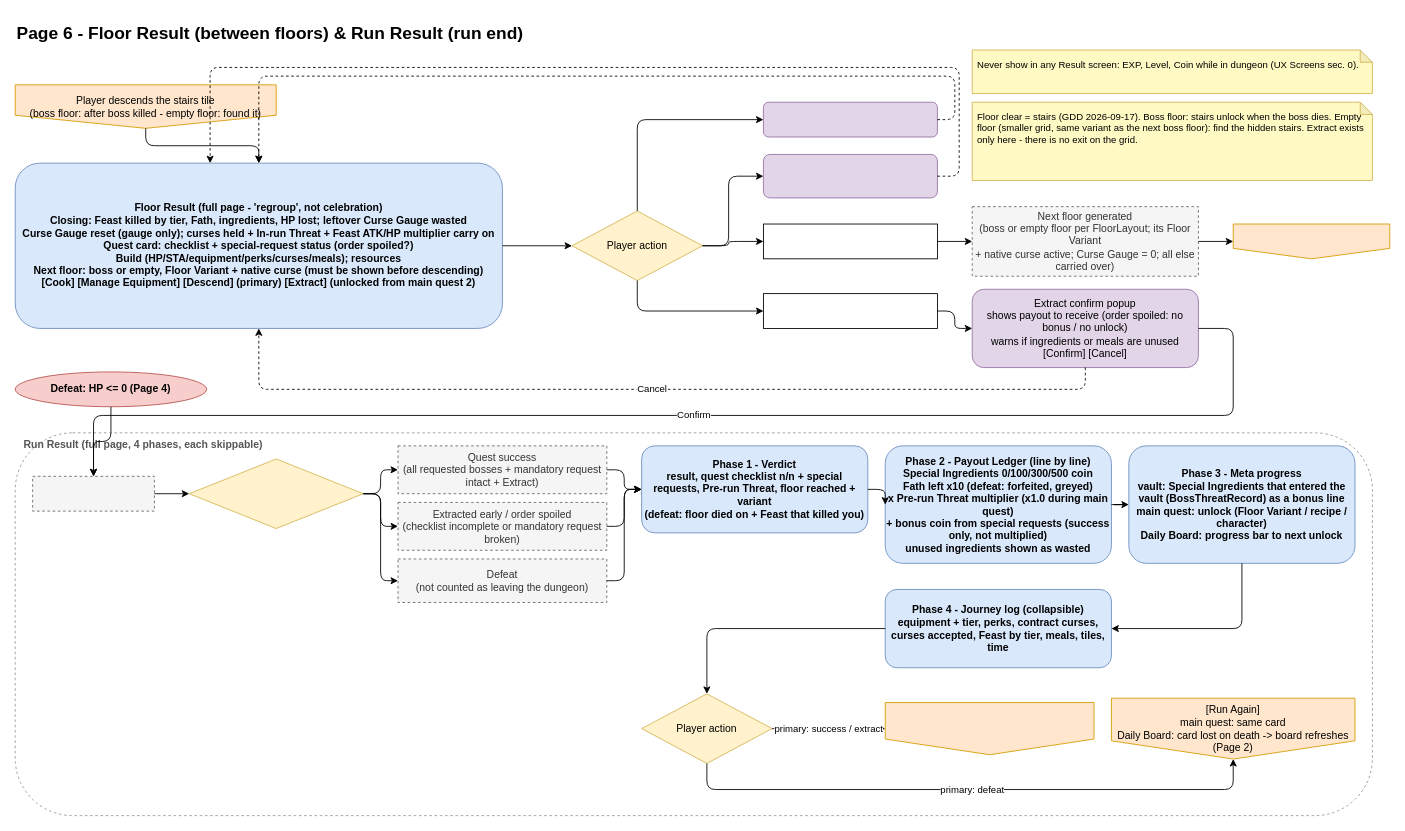
The diagram is 1405 pixels wide and 831 high, and some of its shapes have lost their labels. The centre of each missing label's shape, as x and y in pixels:
[Descend]: point 850,241
[Extract]: point 850,310
[Return to Guild] receive coin -> Guild Hub / Collections (Page 2): point 989,728
Cook popup / Meal inventory (Page 3): point 850,119
Dungeon Grid (Page 3): point 1311,241
Equipment panel view / reorder / discard: point 850,176
How did the run end?: point 275,493
Run ends: point 93,493
